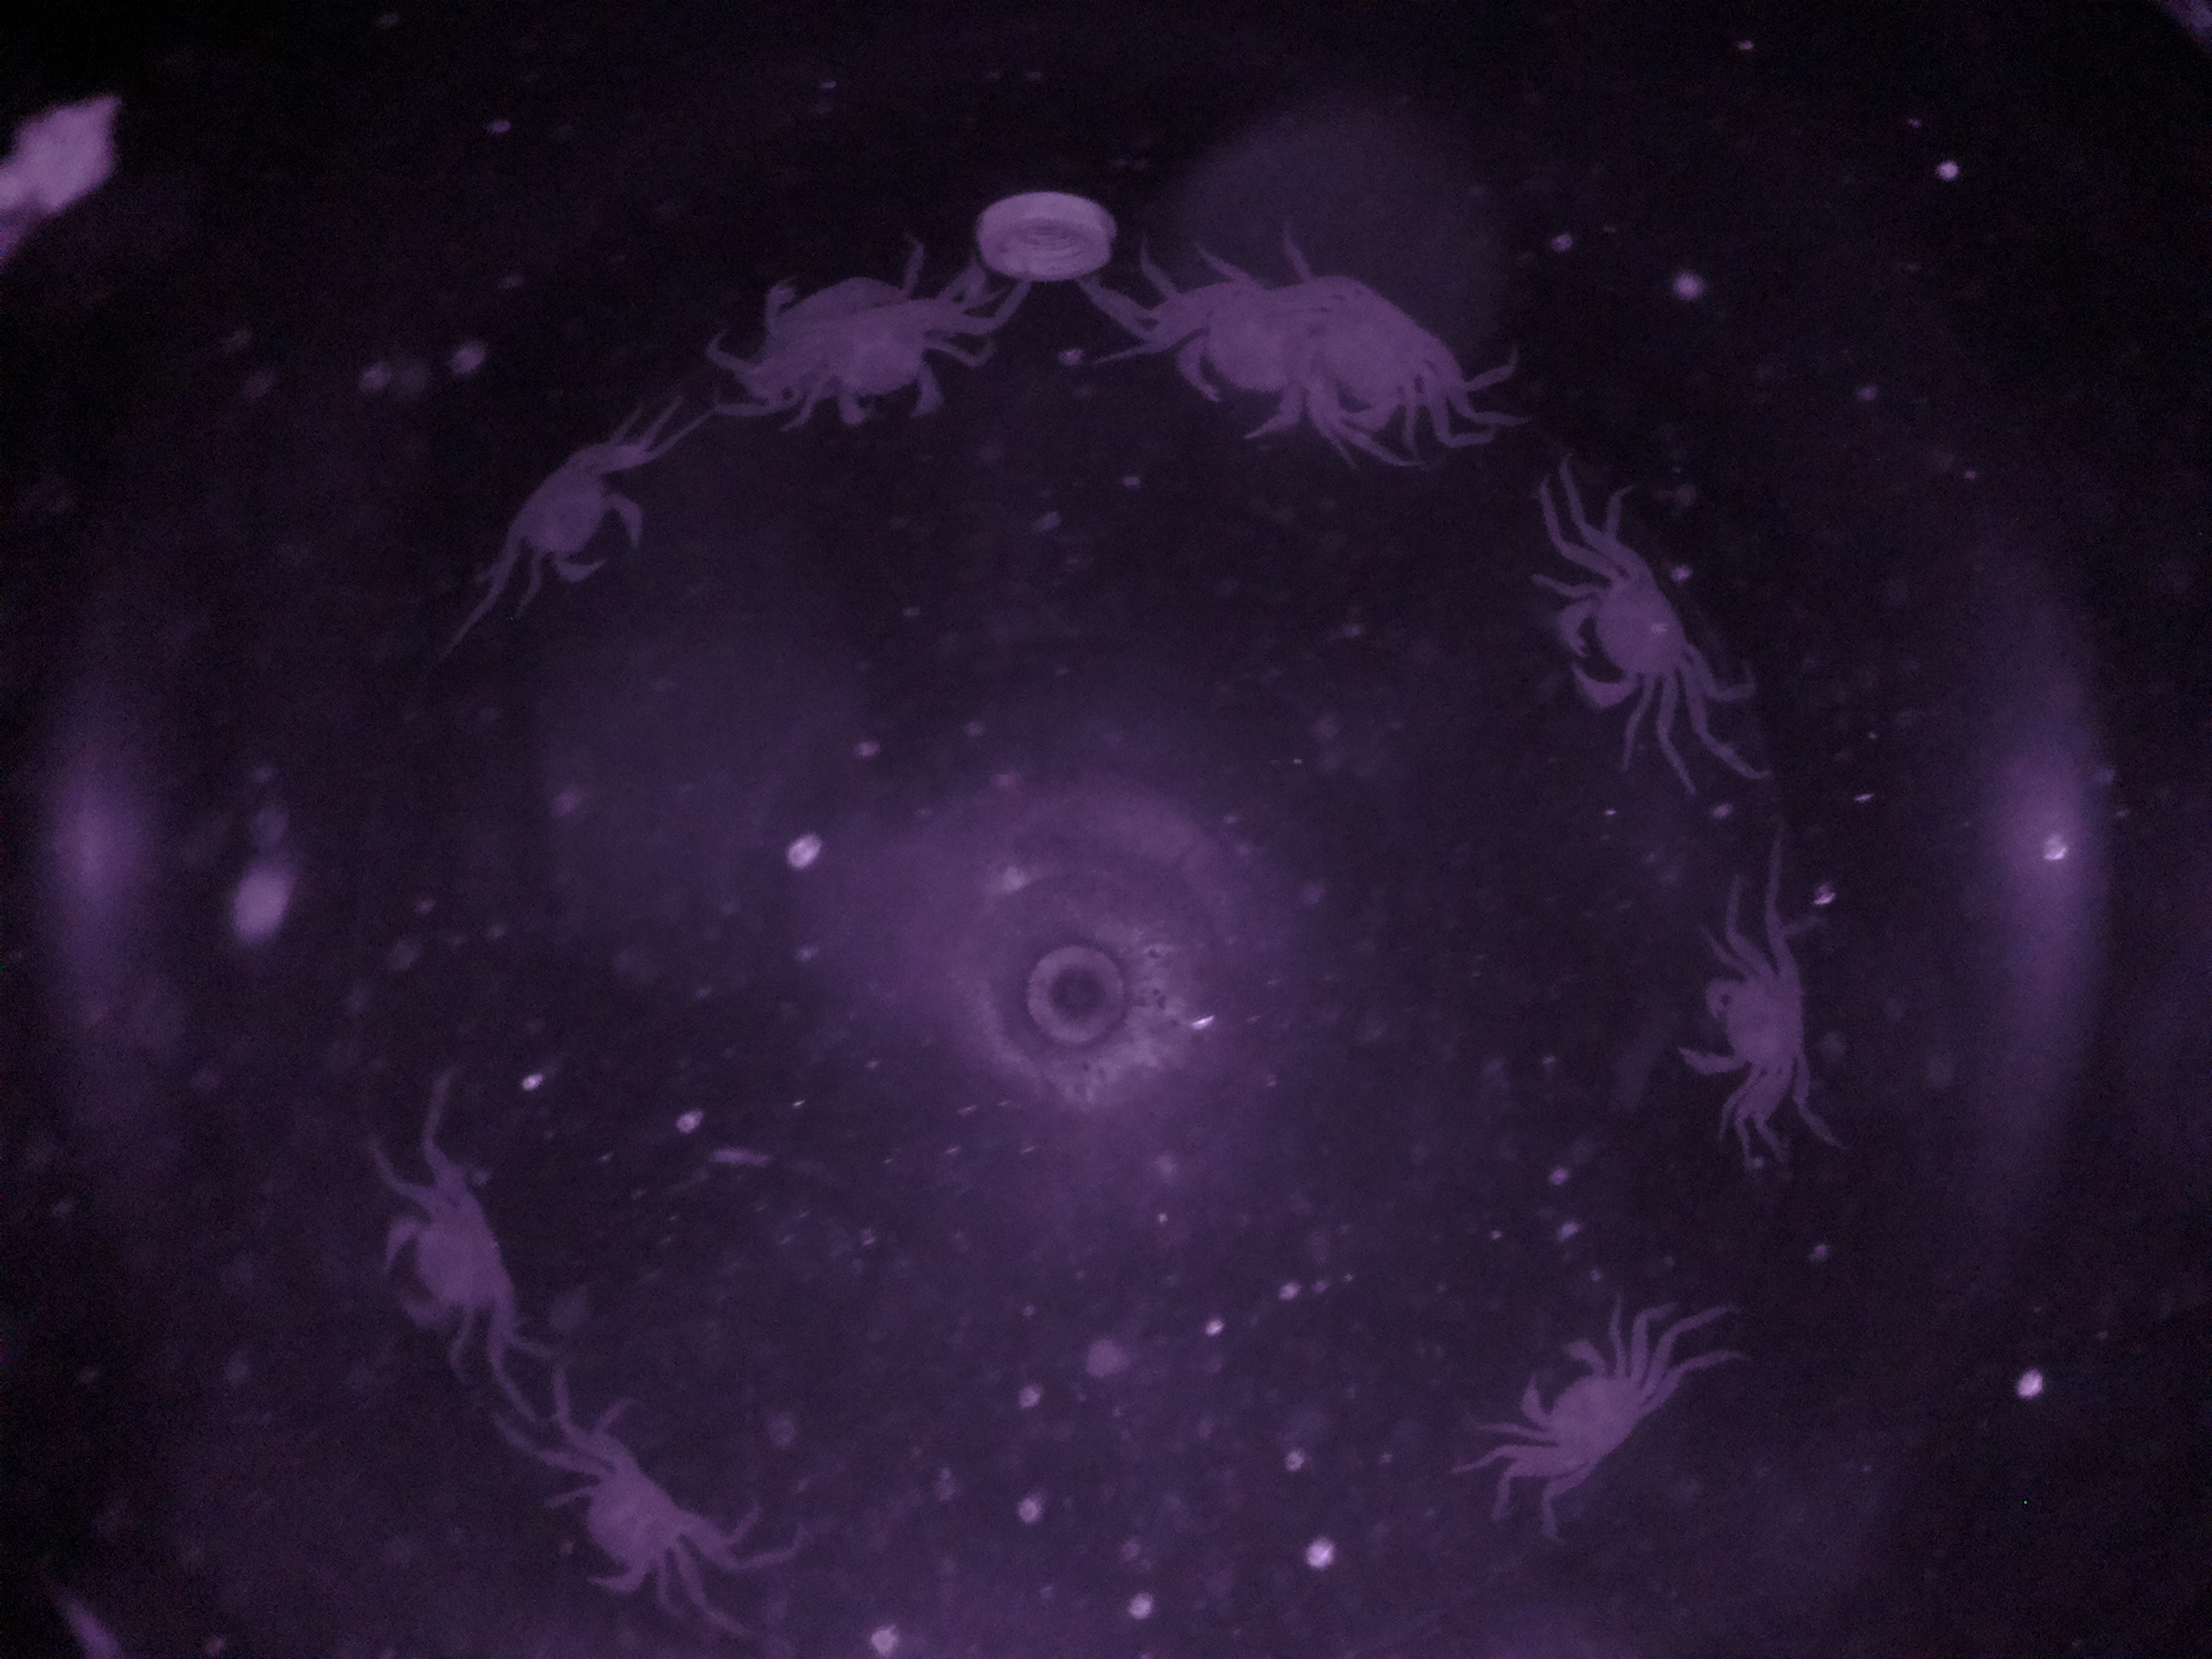Crab: (355, 1143, 538, 1377), (1533, 525, 1712, 741), (524, 1422, 723, 1608), (489, 418, 662, 627), (1649, 946, 1839, 1115), (1493, 1310, 1658, 1504)
